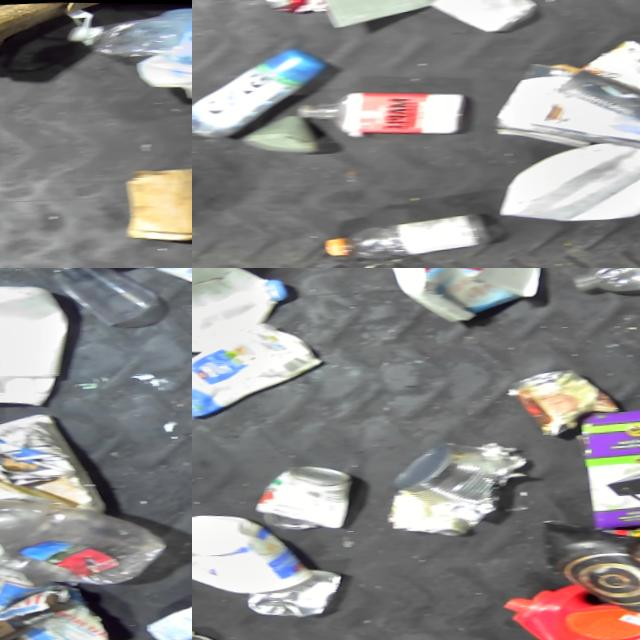can: (391, 437, 533, 521), (507, 364, 626, 439), (254, 461, 357, 533), (247, 567, 349, 620), (258, 0, 329, 18)
milk_jug: (192, 319, 329, 422), (0, 279, 78, 411), (192, 268, 295, 355), (133, 44, 192, 108)
non_white_jug: (502, 574, 640, 640)
plastic_bottle: (0, 490, 174, 594), (319, 210, 500, 265), (58, 1, 192, 68), (570, 268, 640, 295)
